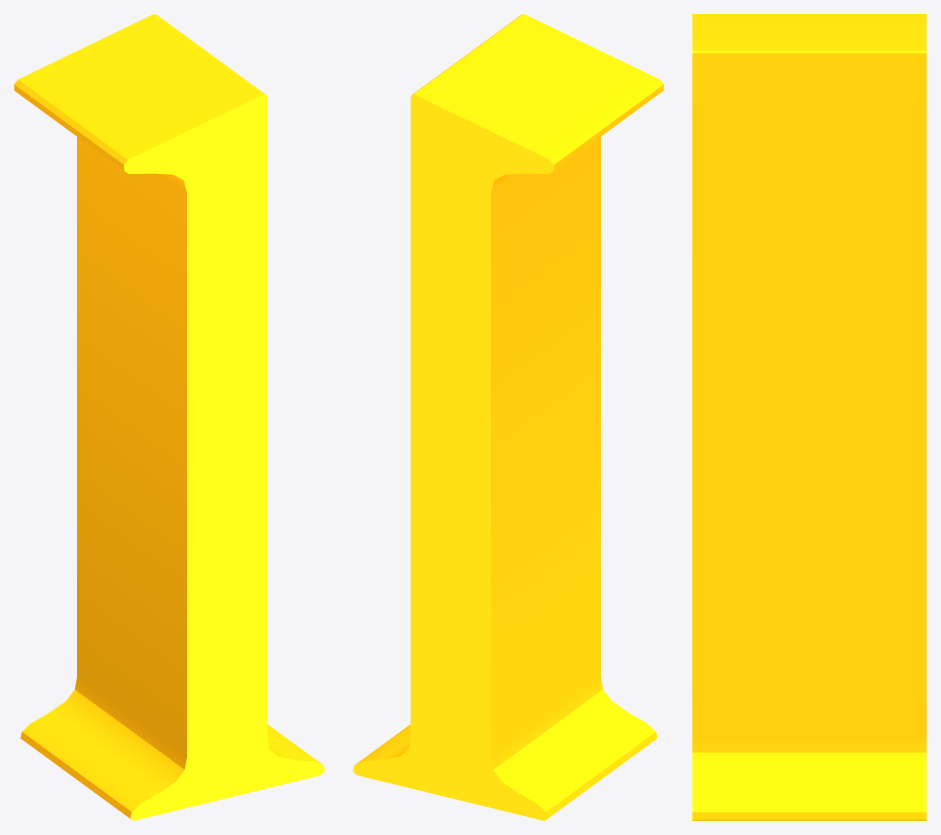
File: L_Soul_Yellow.glb
3 views of the same model, side by side, from view 1: azimuth 30°, elevation 25°; view 2: azimuth 150°, elevation 25°; view 3: azimuth 270°, elevation 25° (orthographic). The views are drawn at different scales.
Parts seen in each view (by area): view 1: l_Soul_Yellow; view 2: l_Soul_Yellow; view 3: l_Soul_Yellow.
Boxes of the visible parts, bbox=[...] form: l_Soul_Yellow: bbox=[14, 14, 324, 820]; l_Soul_Yellow: bbox=[353, 14, 663, 820]; l_Soul_Yellow: bbox=[692, 14, 926, 820].
Size of what is drawn, in the model's own units: 0.0475 by 0.1569 by 0.045.
Materials: 2 (2 with a texture image).
